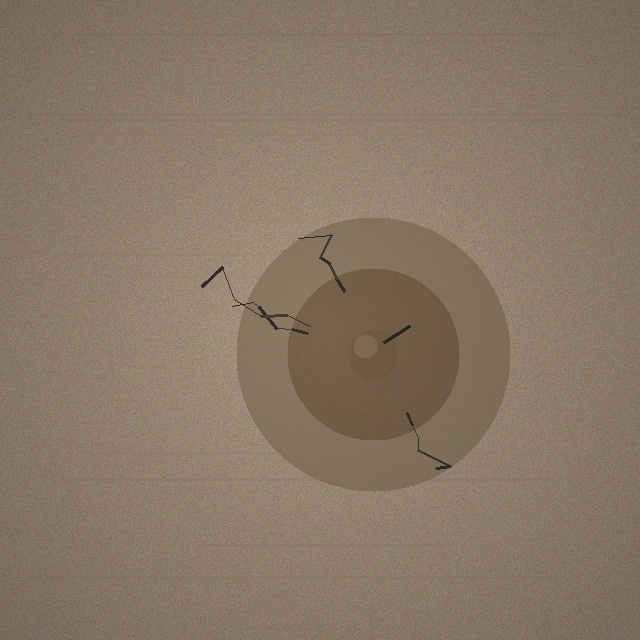crack: (236, 217, 510, 491)
